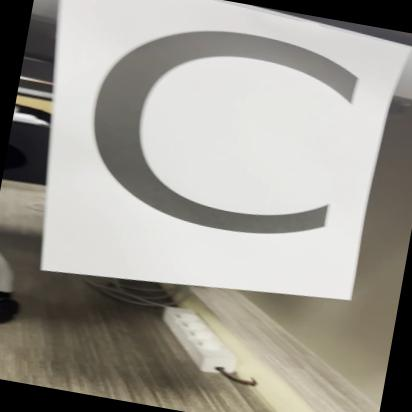seat: (31, 0, 392, 304)
